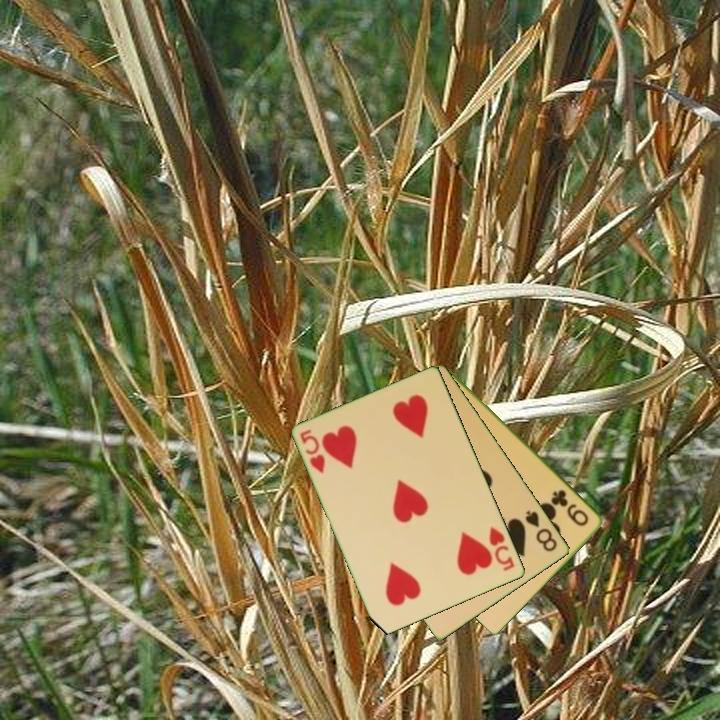5h: (486, 523, 518, 574), (297, 426, 329, 476)
8s: (522, 507, 561, 555)
9c: (548, 486, 592, 529)
